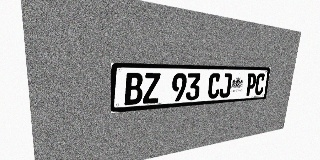3: (186, 73, 201, 100)
9: (171, 73, 187, 102)
B: (124, 73, 143, 105)
C: (207, 73, 221, 99), (254, 73, 266, 95)
J: (219, 73, 232, 98)
P: (245, 73, 257, 96)
Z: (143, 73, 161, 104)
